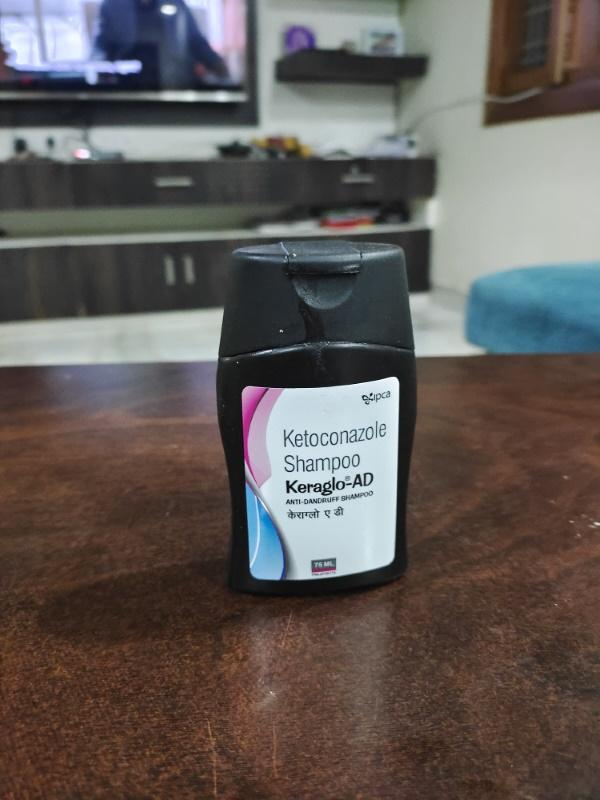KeraGlo: (196, 222, 459, 613)
